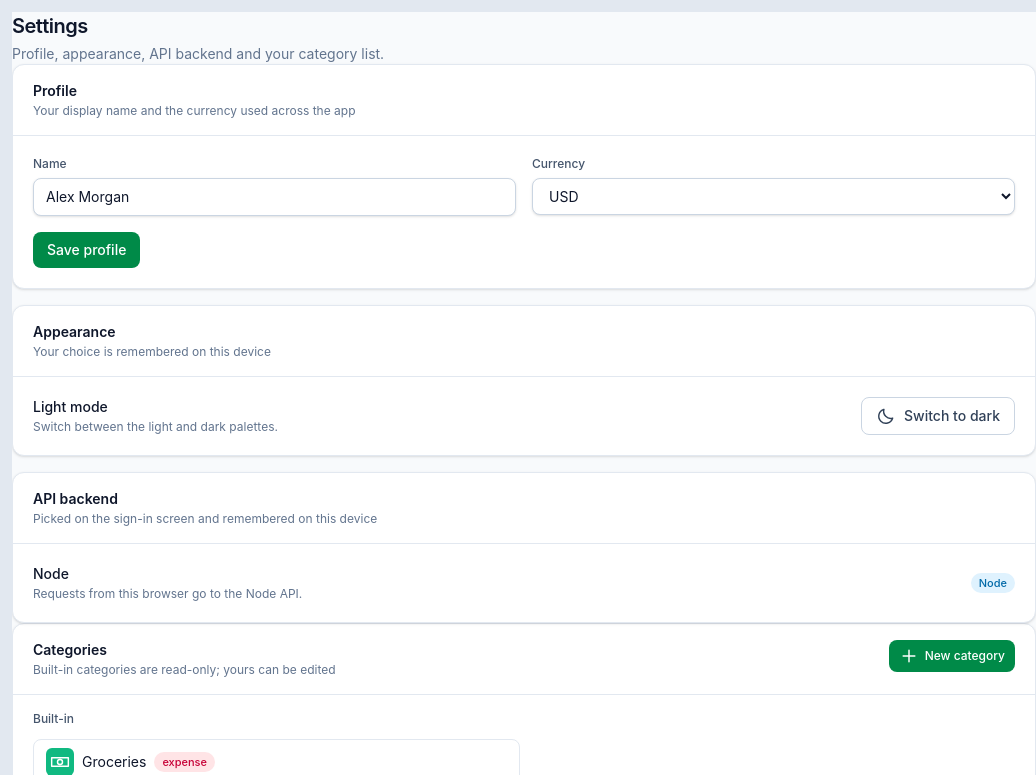
Test: SettingsPage › rejects an empty profile name
Clear the field labelled "Name". click: (274, 197)
box: [33,178,516,216]
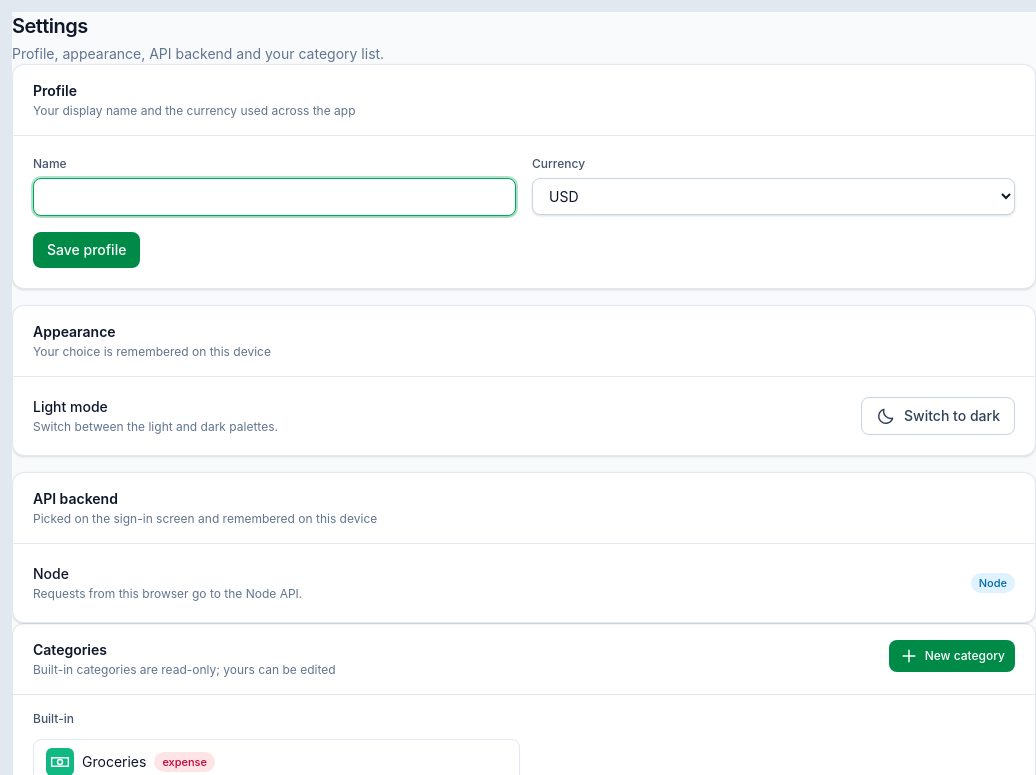
Click the button "Save profile". click: (87, 250)
box: [33,232,140,268]
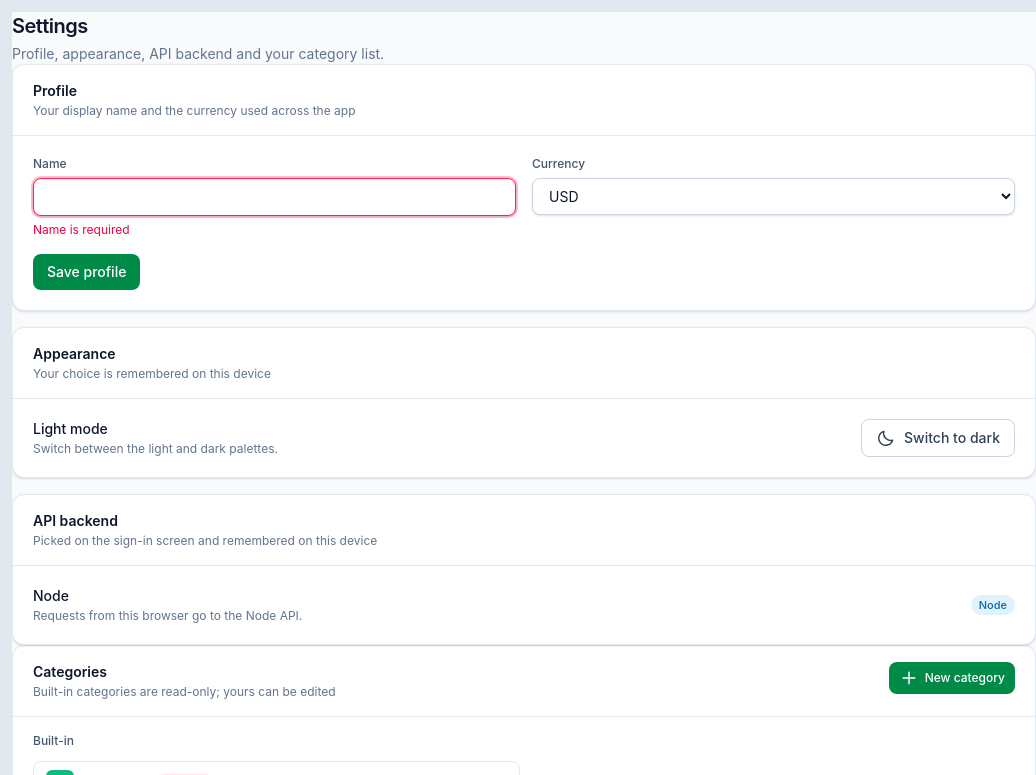
Now the text "Name is required" is shown, box [33,222,130,237]
